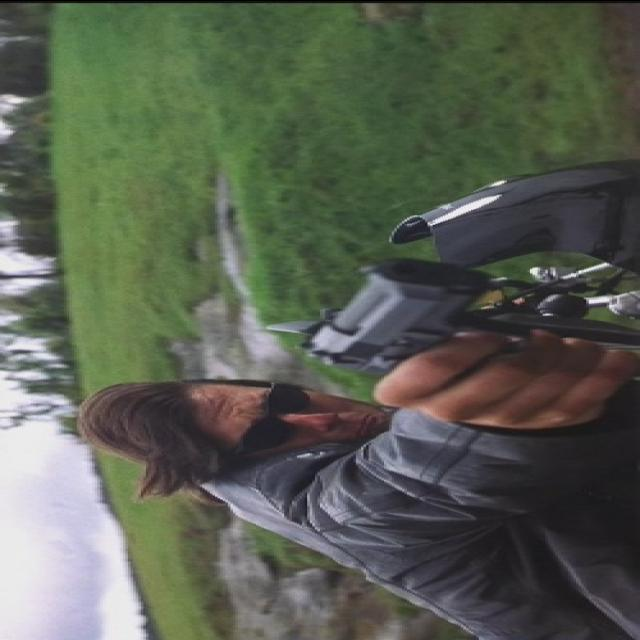weapons: (279, 224, 621, 380)
